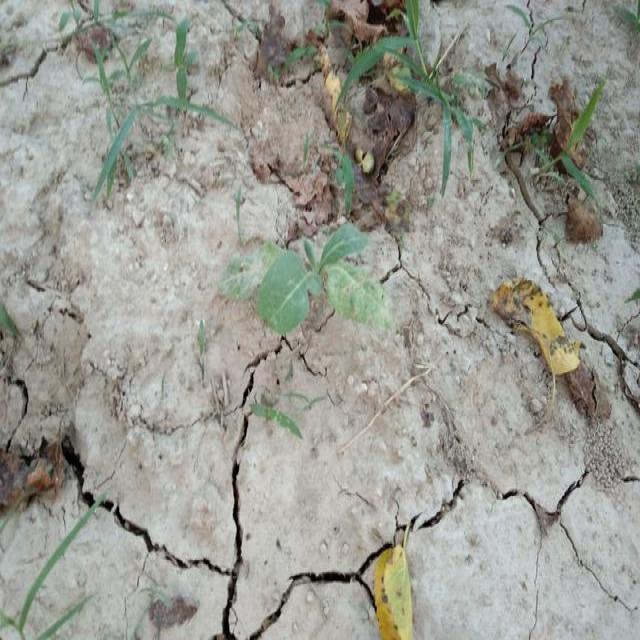crop: (226, 218, 382, 336)
